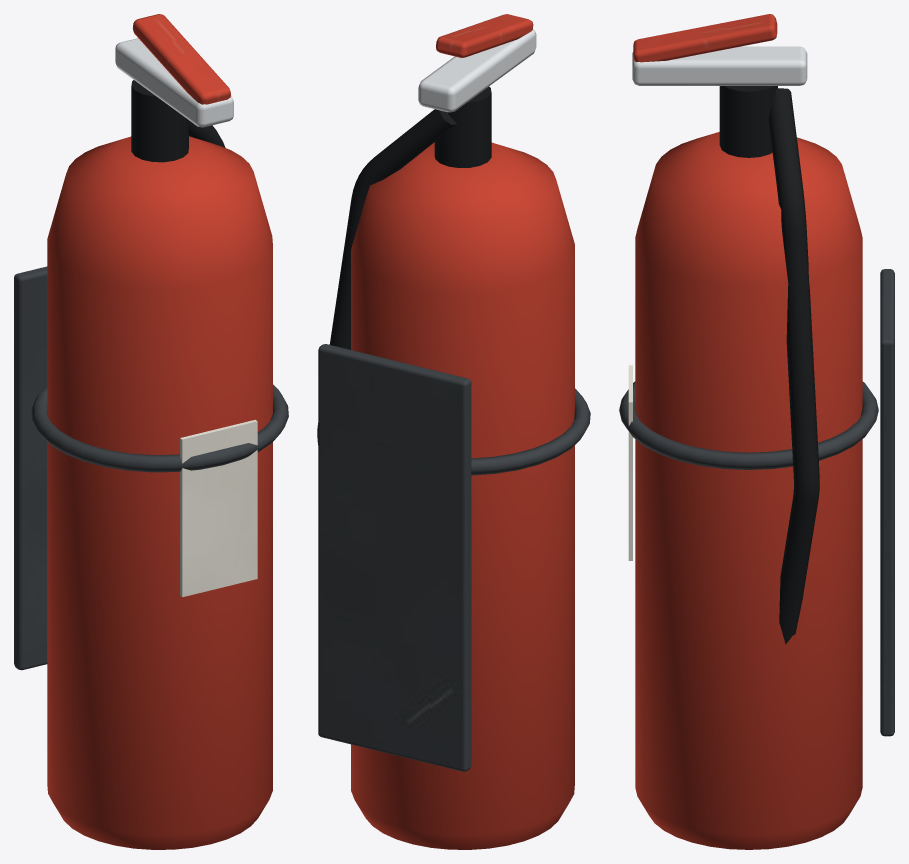
Rendered from FireExtinguisher.glb.
3 renders of one model, left to right at view 1: azimuth 30°, elevation 25°; view 2: azimuth 150°, elevation 25°; view 3: azimuth 270°, elevation 25°, orthographic.
Visible parts, largest first — view 1: FireExtinguisher_Body; view 2: FireExtinguisher_Body; view 3: FireExtinguisher_Body.
Boxes of the visible parts, <box> form: FireExtinguisher_Body: <box>14,14,288,849</box>; FireExtinguisher_Body: <box>317,14,590,849</box>; FireExtinguisher_Body: <box>619,14,894,849</box>.
Size of the model in its own units: 0.1822 by 0.5954 by 0.189.
7 materials, 3 textured.
